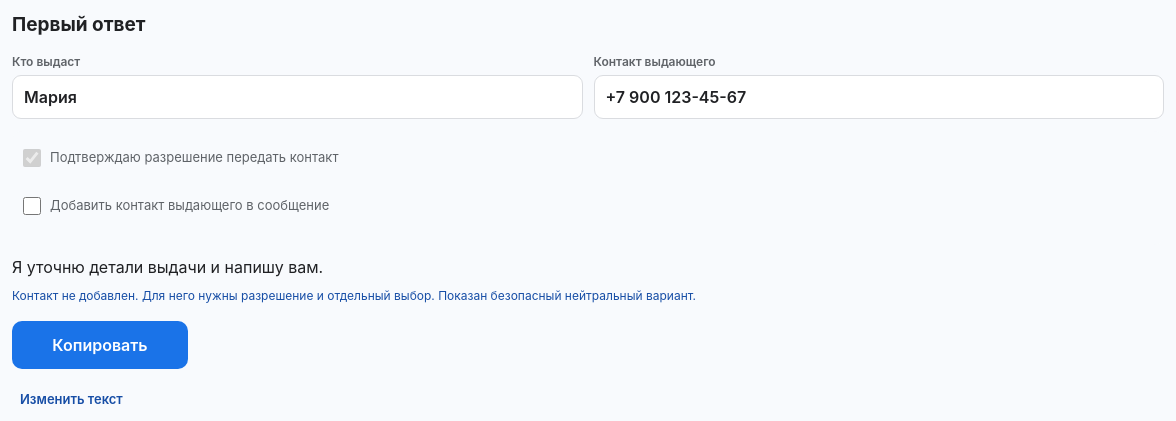
CopyComposer › requires a separate include action after contact permission is present
Click the checkbox labelled "Добавить контакт выдающего в сообщение" at (32, 206), box x1=23 y1=197 x2=41 y2=215
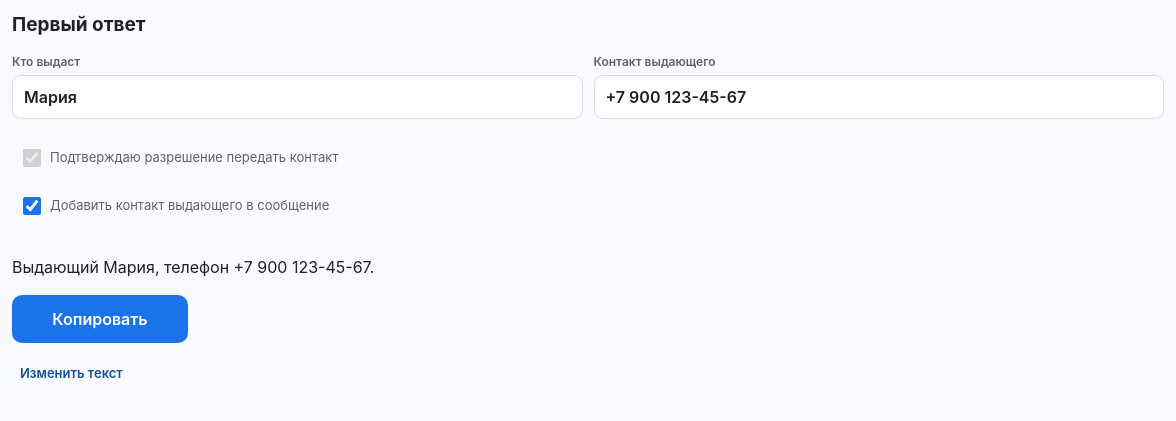
Now the text named "Текст сообщения" reads "Выдающий Мария, телефон +7 900 123-45-67.", box x1=12 y1=257 x2=374 y2=277
